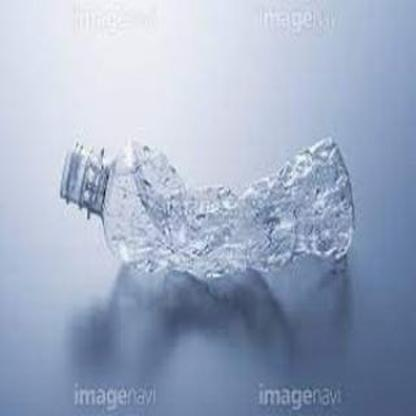plastic bottle: (59, 138, 356, 274)
